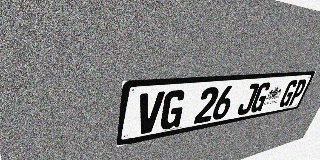2: (193, 86, 221, 124)
6: (211, 85, 237, 121)
G: (158, 89, 188, 131), (249, 82, 272, 113), (278, 80, 299, 108)
J: (236, 83, 260, 116)
P: (287, 79, 308, 106)
V: (135, 91, 165, 135)
